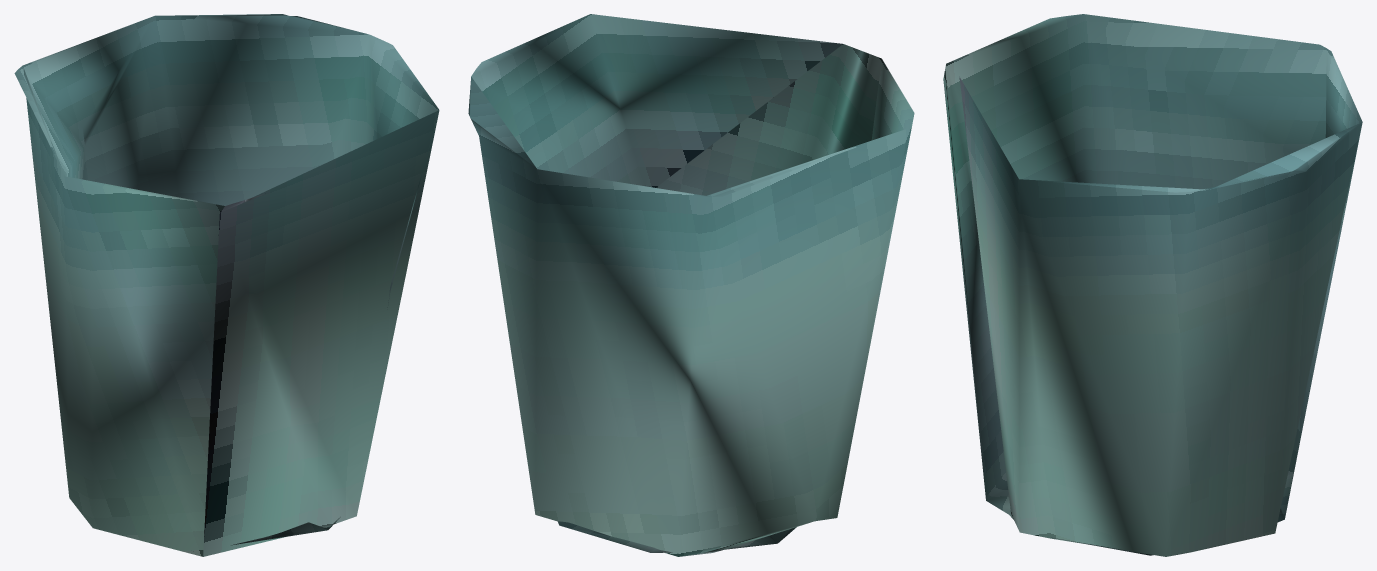
Rendered from Ecoforms_Garden_Pot_GP16ATurquois-low.glb.
3 views of the same model, side by side, from view 1: azimuth 30°, elevation 25°; view 2: azimuth 150°, elevation 25°; view 3: azimuth 270°, elevation 25° (orthographic). The views are drawn at different scales.
Parts seen in each view (by area): view 1: Ecoforms_Garden_Pot_GP16ATurquois; view 2: Ecoforms_Garden_Pot_GP16ATurquois; view 3: Ecoforms_Garden_Pot_GP16ATurquois.
Part boxes in pixels (x1,y1,x2,y2): Ecoforms_Garden_Pot_GP16ATurquois: (14,14,439,556); Ecoforms_Garden_Pot_GP16ATurquois: (468,14,914,556); Ecoforms_Garden_Pot_GP16ATurquois: (943,14,1362,556).
Bounding box in the file's own units: 0.16 × 0.16 × 0.1526.
Materials: 1 (1 with a texture image).
